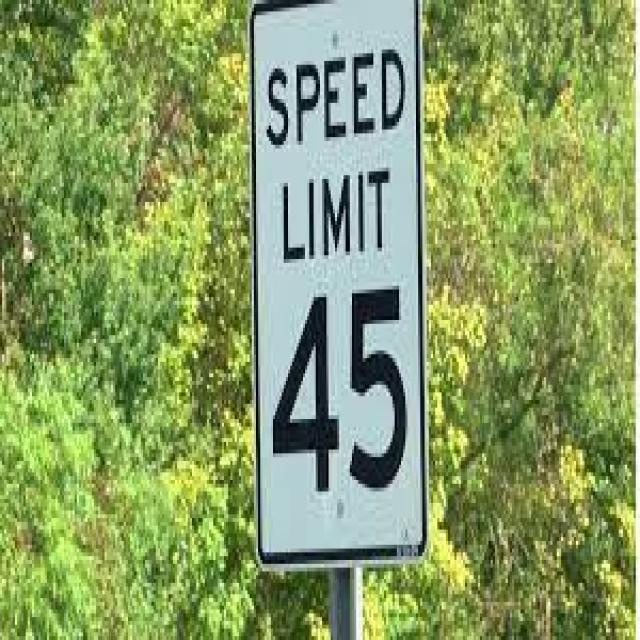speedLimit45: (248, 2, 424, 585)
